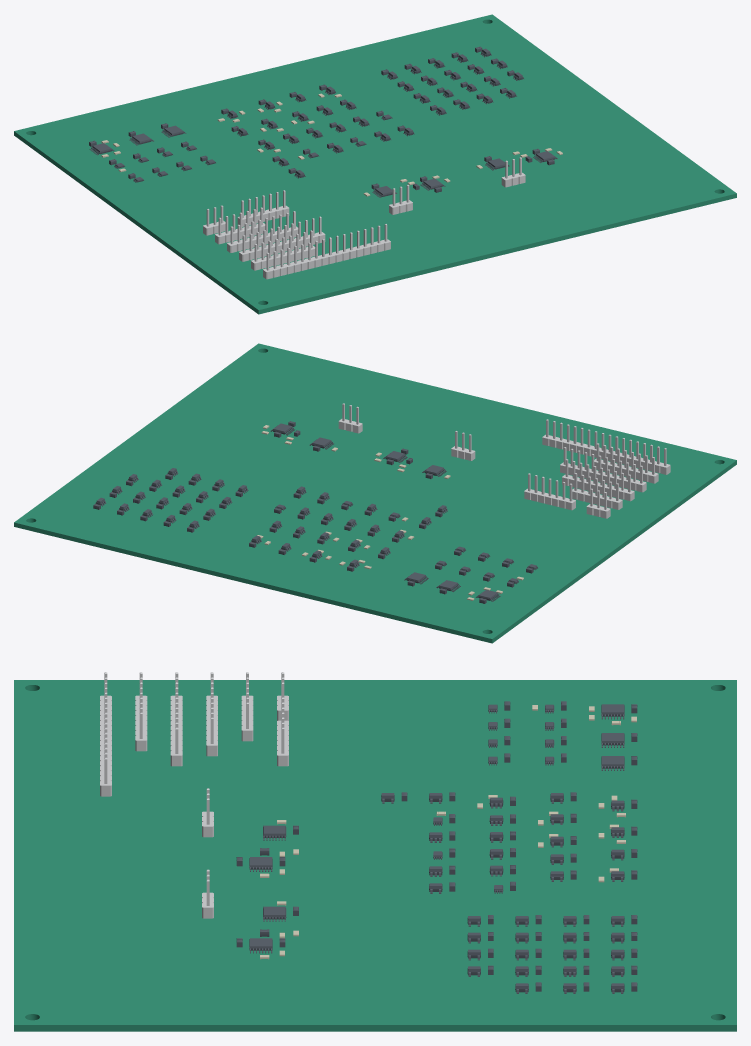
The model's file is contact-router.glb.
3 renders of one model, top to bottom at view 1: azimuth 30°, elevation 25°; view 2: azimuth 150°, elevation 25°; view 3: azimuth 270°, elevation 25°, orthographic. The views are drawn at different scales.
Visible parts, largest first — view 1: PCB, J40007, J40005, J40004, J40006, J40003, J40002; view 2: PCB, J40007, J40005, J40004, J40002, J40006, J40003; view 3: PCB, J40007, J40005, J40004, J40006, J40003, J40002.
Boxes of the visible parts, box(x1,y1,x2,y2) form: PCB: box(14, 14, 736, 314); J40007: box(263, 224, 390, 279); J40005: box(239, 216, 325, 261); J40004: box(227, 211, 298, 252); J40006: box(251, 230, 315, 270); J40003: box(215, 207, 265, 244); J40002: box(237, 190, 289, 226); PCB: box(14, 343, 736, 643); J40007: box(542, 419, 670, 474); J40005: box(560, 447, 646, 492); J40004: box(562, 459, 634, 501); J40002: box(524, 473, 575, 510); J40006: box(594, 443, 658, 483); J40003: box(572, 473, 622, 509); PCB: box(14, 680, 736, 1031); J40007: box(100, 672, 111, 796); J40005: box(170, 672, 182, 766); J40004: box(206, 672, 217, 756); J40006: box(135, 672, 147, 751); J40003: box(241, 672, 253, 741); J40002: box(277, 697, 288, 766).
Size of the model in its own units: 0.175 by 0.0115 by 0.155.
